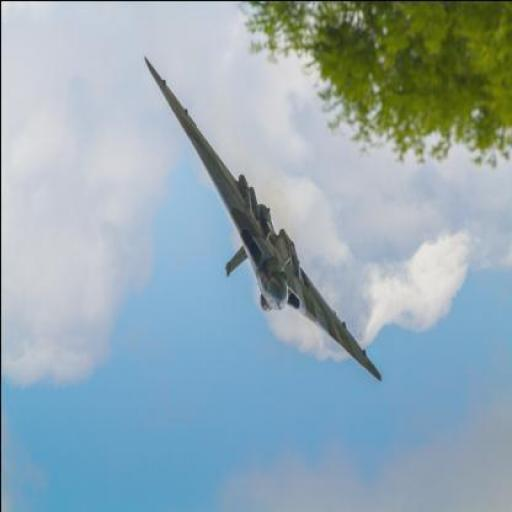aircraft: (142, 55, 385, 382)
